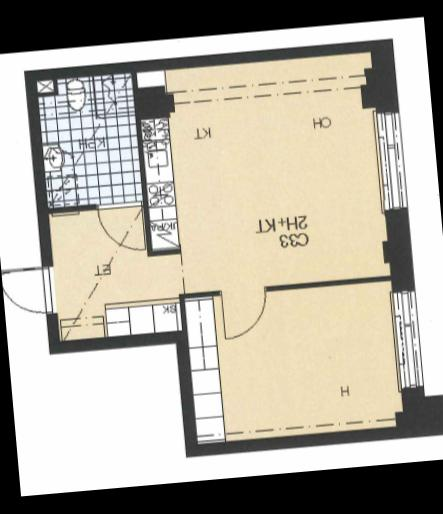door: (213, 284, 272, 344), (0, 263, 58, 322), (93, 199, 146, 255)
window: (386, 285, 426, 393), (368, 106, 407, 215)
